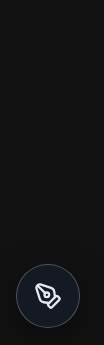
TattooMenu › expands the menu when the trigger button is clicked
The image size is (104, 345).
Click the button named "abrir menu".
click(48, 296)  # box [16, 264, 80, 328]
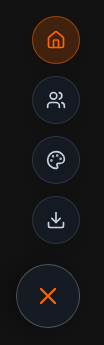
expect the menu is shown: met, box [32, 16, 80, 244]
expect the button named "fechar menu" is shown: met, box [16, 264, 80, 328]
